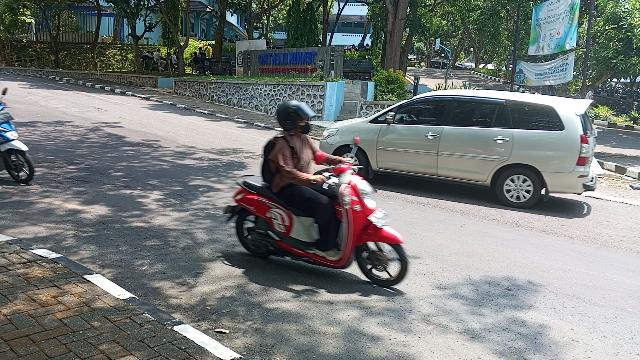helm: (276, 99, 318, 137)
motor: (225, 135, 411, 290)
